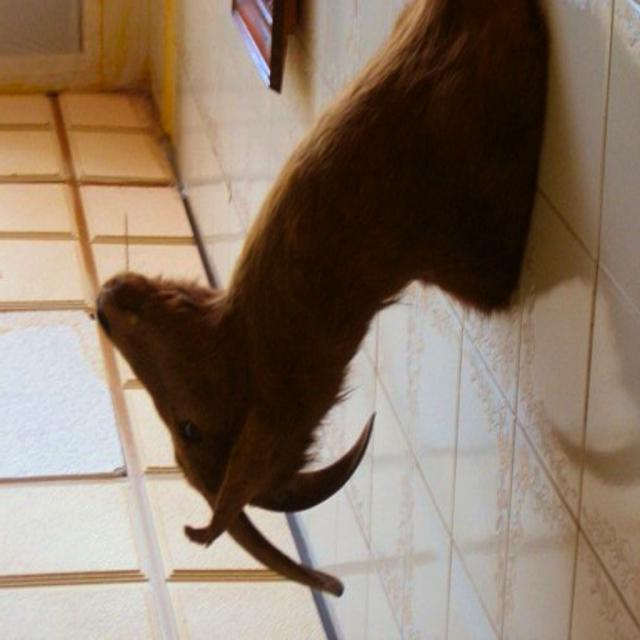Goat: (95, 1, 552, 600)
